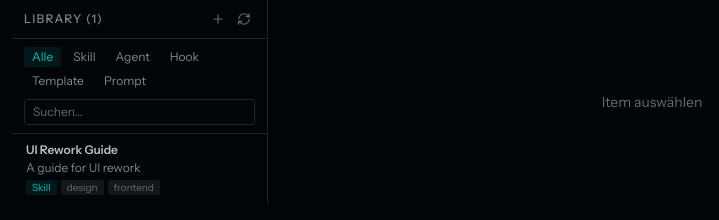
Test: LibraryViewer › shows 'Keine Items gefunden' when filters match nothing
The image size is (719, 220).
Type "nonexistent" into the field with placeholder "Suchen..." at (140, 112), box [24, 99, 255, 125]
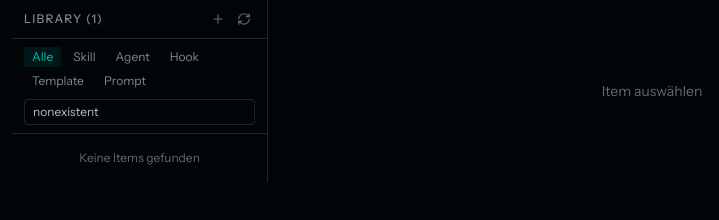
Check: the text "Keine Items gefunden" is shown, box [79, 150, 200, 165]
